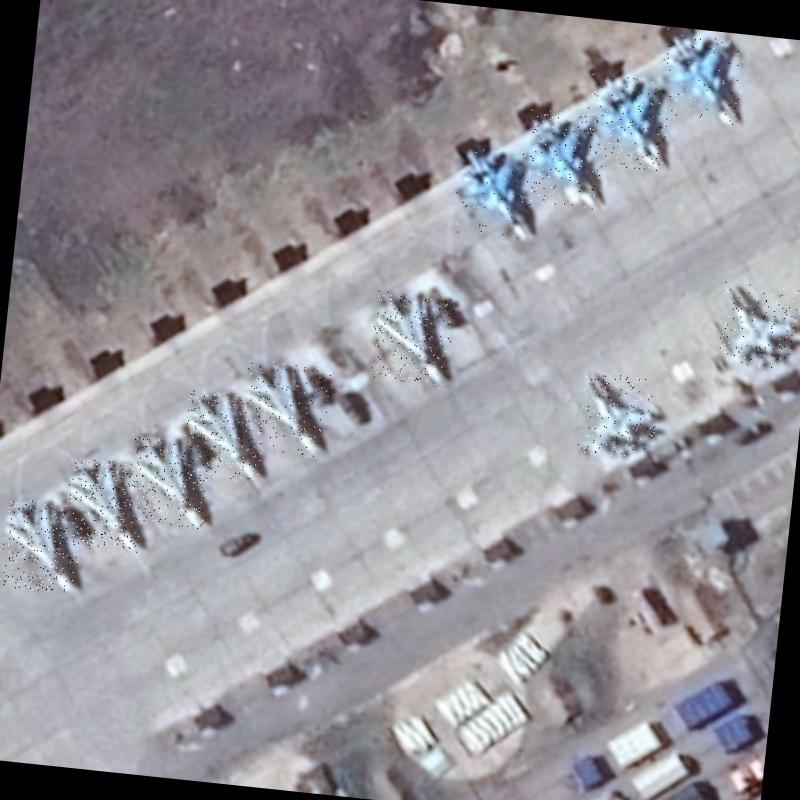A1: (576, 371, 660, 460), (716, 282, 798, 372)
A19: (654, 28, 747, 127), (582, 71, 672, 171), (520, 108, 606, 209), (452, 145, 538, 241)
A20: (239, 359, 332, 458), (367, 290, 455, 386), (180, 388, 266, 484), (126, 435, 212, 530), (62, 457, 146, 553), (0, 498, 83, 594)
